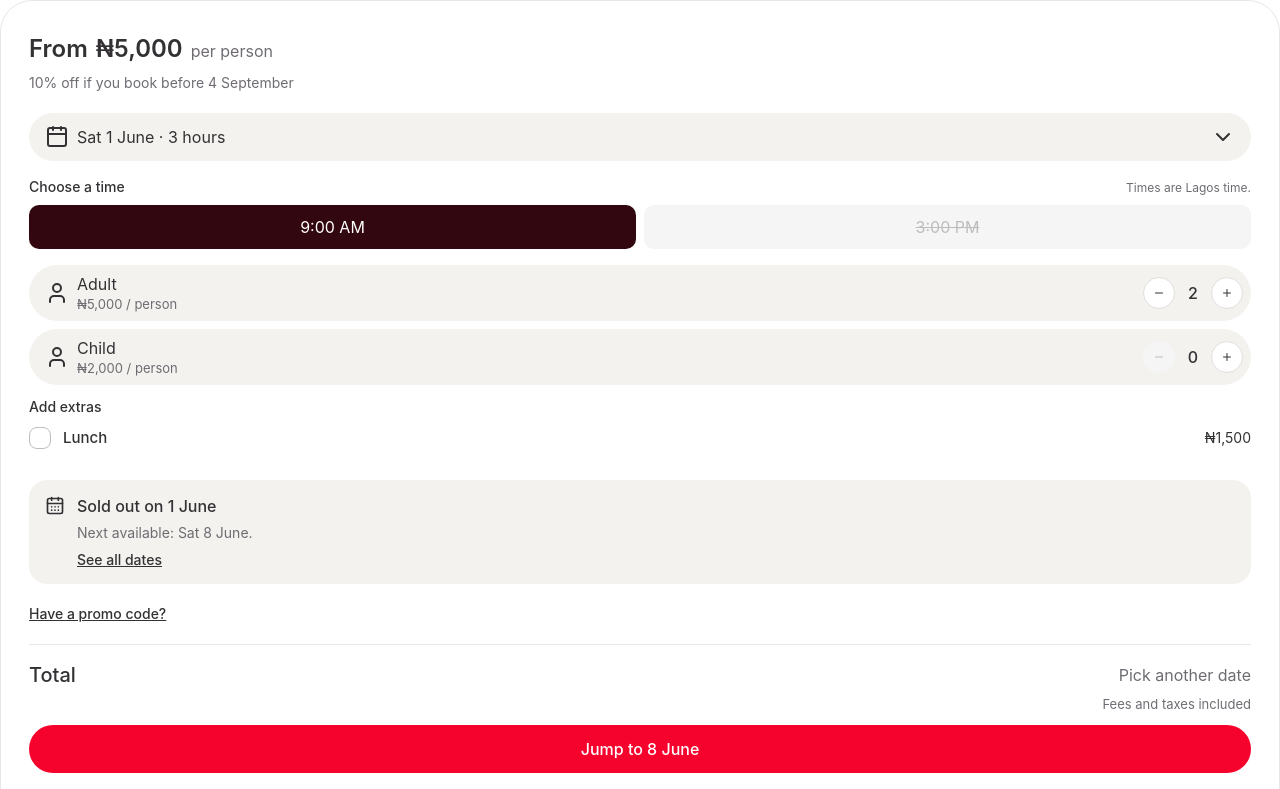
Test: BookingPanelView › names a sold-out day, says what is missing from the total, and jumps to the next date
Check: the text "Sold out on 1 June" is shown, box [77,496,216,516]
Check: the text "Pick another date" is shown, box [1119,662,1251,686]
What coordinates should you click on to do the following:
click the button "Jump to 8 June"
I would click on:
 (640, 748)
Its box is [29,724,1251,772].
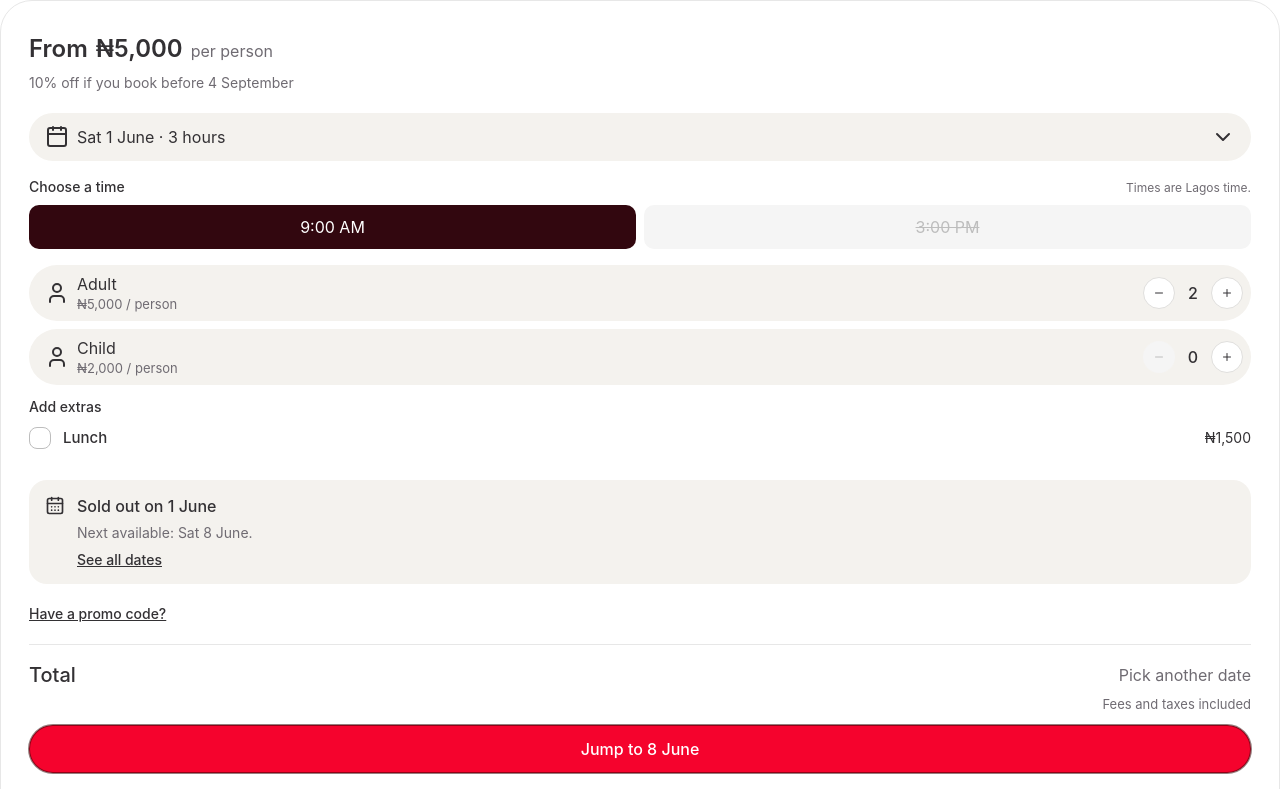
Note: "See all dates" opens the calendar.
What coordinates should you click on to do the following:
click the button "See all dates"
I would click on:
 (120, 558)
Its box is [77,548,162,570].
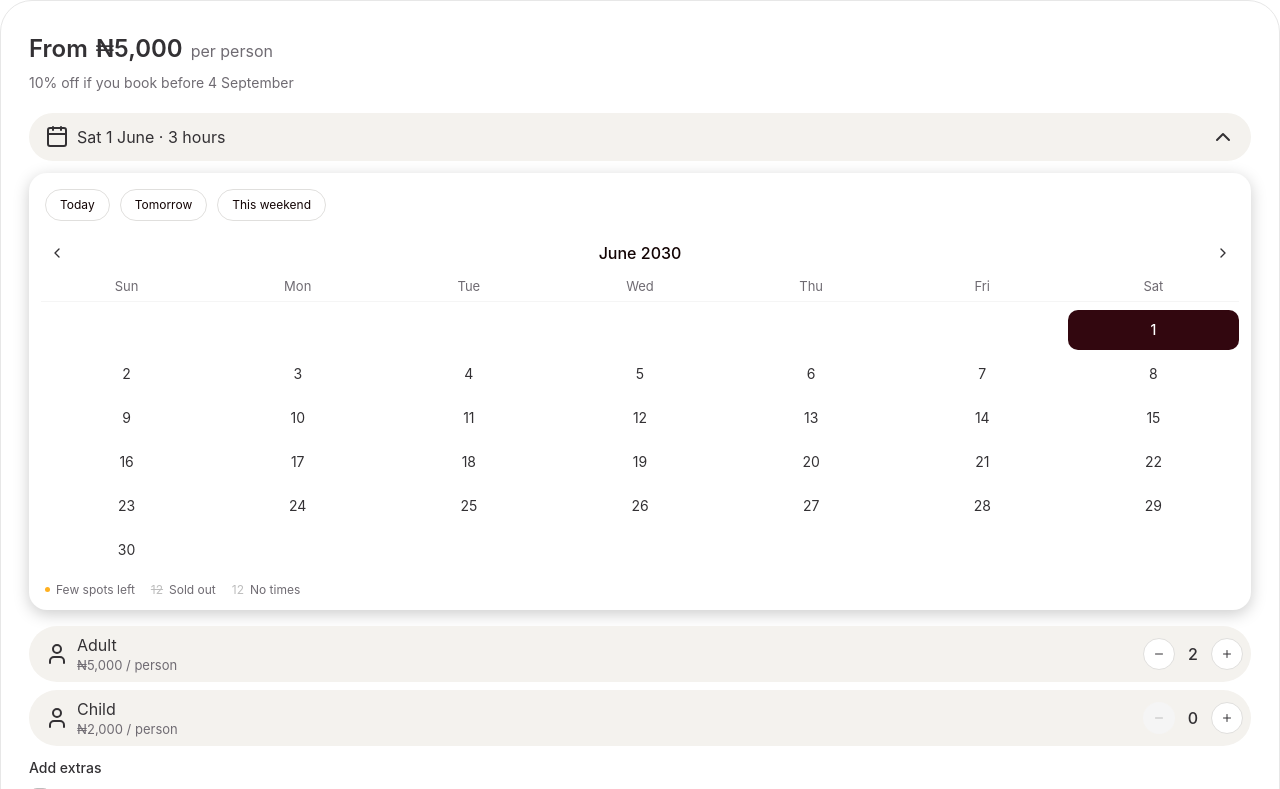
Check: the element named "Pick a date" is shown, box [29,173,1251,610]
